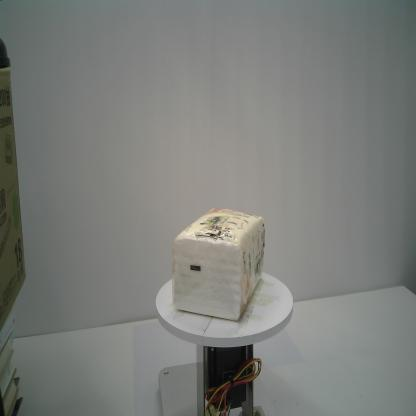Tissue: (172, 207, 266, 323)
